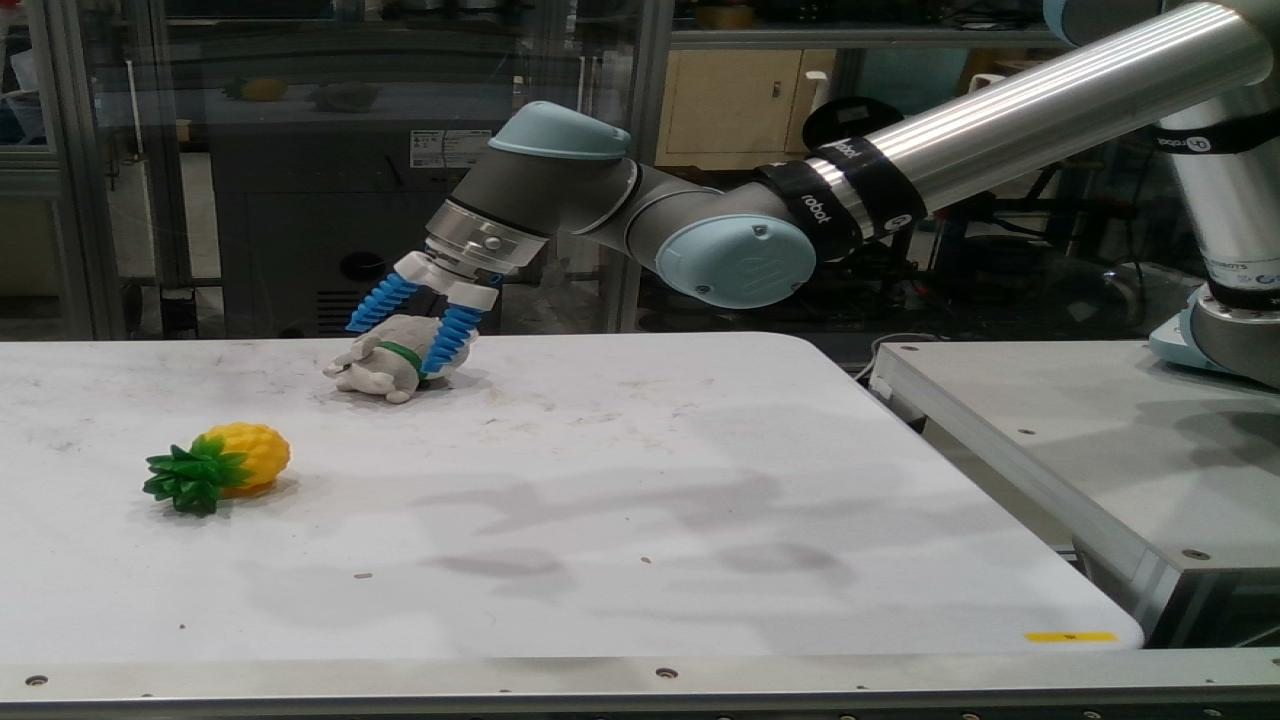UR5: (393, 0, 1279, 389)
gripper_left: (347, 272, 420, 332)
gripper_right: (420, 304, 485, 374)
target: (323, 315, 480, 403), (140, 422, 290, 514)
